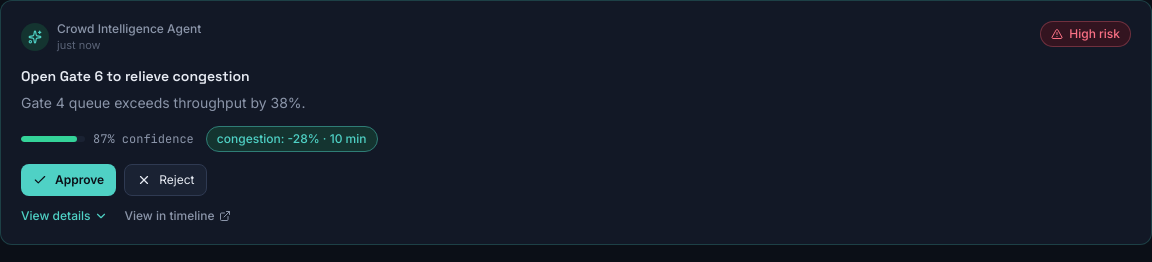
Scenario: AIInsightCard › rejecting a recommendation records it and swaps in a Dismissed badge
The image size is (1152, 262).
Click the button "Reject".
click(166, 180)  # box x1=124 y1=164 x2=207 y2=196
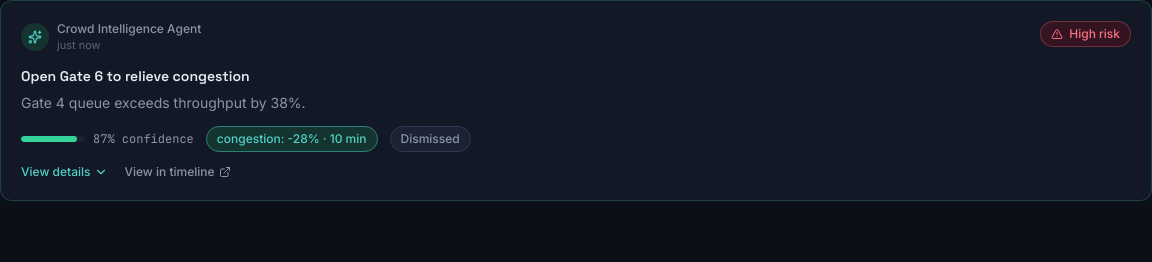
Now the text "Dismissed" is shown, box x1=390 y1=126 x2=471 y2=152
